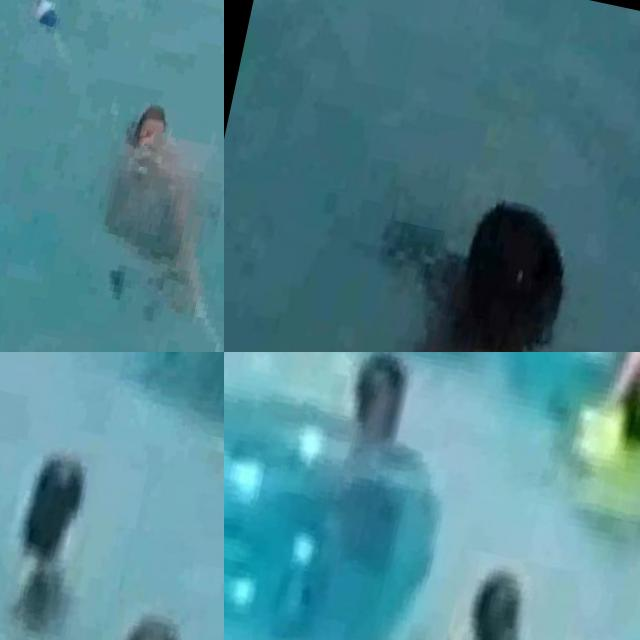drowning: (292, 195, 587, 352), (74, 55, 224, 347), (0, 437, 144, 640), (429, 548, 578, 640)
swimming: (224, 352, 464, 618), (545, 352, 640, 558)
